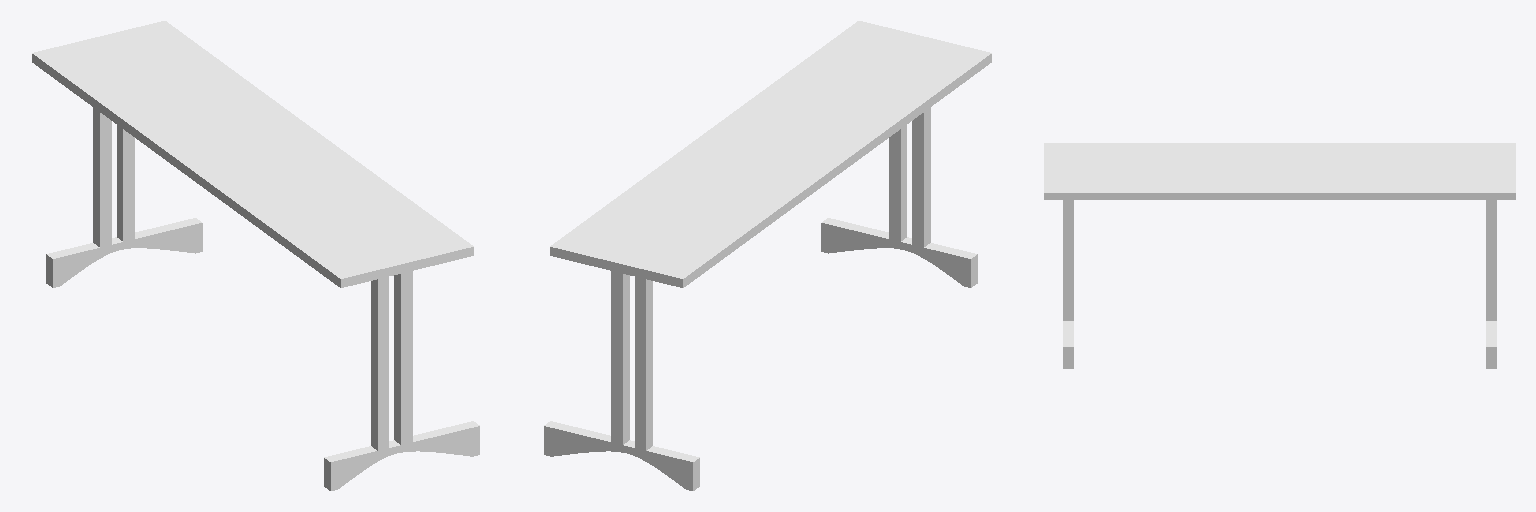
robot.urdf — lab_table.obj:
<robot name="lab_table.obj">
	<link name="_name">
		<visual>
			<origin xyz="0 0 0" rpy="0 0 0" />
			<geometry>
				<mesh filename="lab_table.obj" scale="0.001 0.001 0.001" />
			</geometry>
			<material name="texture">
				<color rgba="1.0 1.0 1.0 1.0" />
			</material>
		</visual>
		<collision>
			<geometry>
				<mesh filename="lab_table_vhacd.obj" scale="0.001 0.001 0.001" />
			</geometry>
		<origin xyz="0 0 0" rpy="0 0 0" /></collision>
		<inertial>
			<mass value="0.0" />
			<inertia ixx="1.0" ixy="0.0" ixz="0.0" iyy="1.0" iyz="0.0" izz="1.0" />
		</inertial>
	</link>
</robot>

--- Render facts (derived) ---
3 views of the same robot in one strip: view 1: azimuth 30°, elevation 25°; view 2: azimuth 150°, elevation 25°; view 3: azimuth 270°, elevation 25° (orthographic).
Model lab_table.obj with 1 links and 0 joints (none), rooted at _name, posed all joints at 0.
Visible links, largest first — view 1: _name; view 2: _name; view 3: _name.
Boxes of the visible links, x1,y1,x2,y2 form: _name: [32, 21, 479, 490]; _name: [544, 21, 991, 490]; _name: [1044, 143, 1515, 368].
Size in the robot's own frame: 0.5175 by 1.82 by 0.723 metres.
1 mesh visuals loaded from 1 distinct referenced files (1 OBJ).